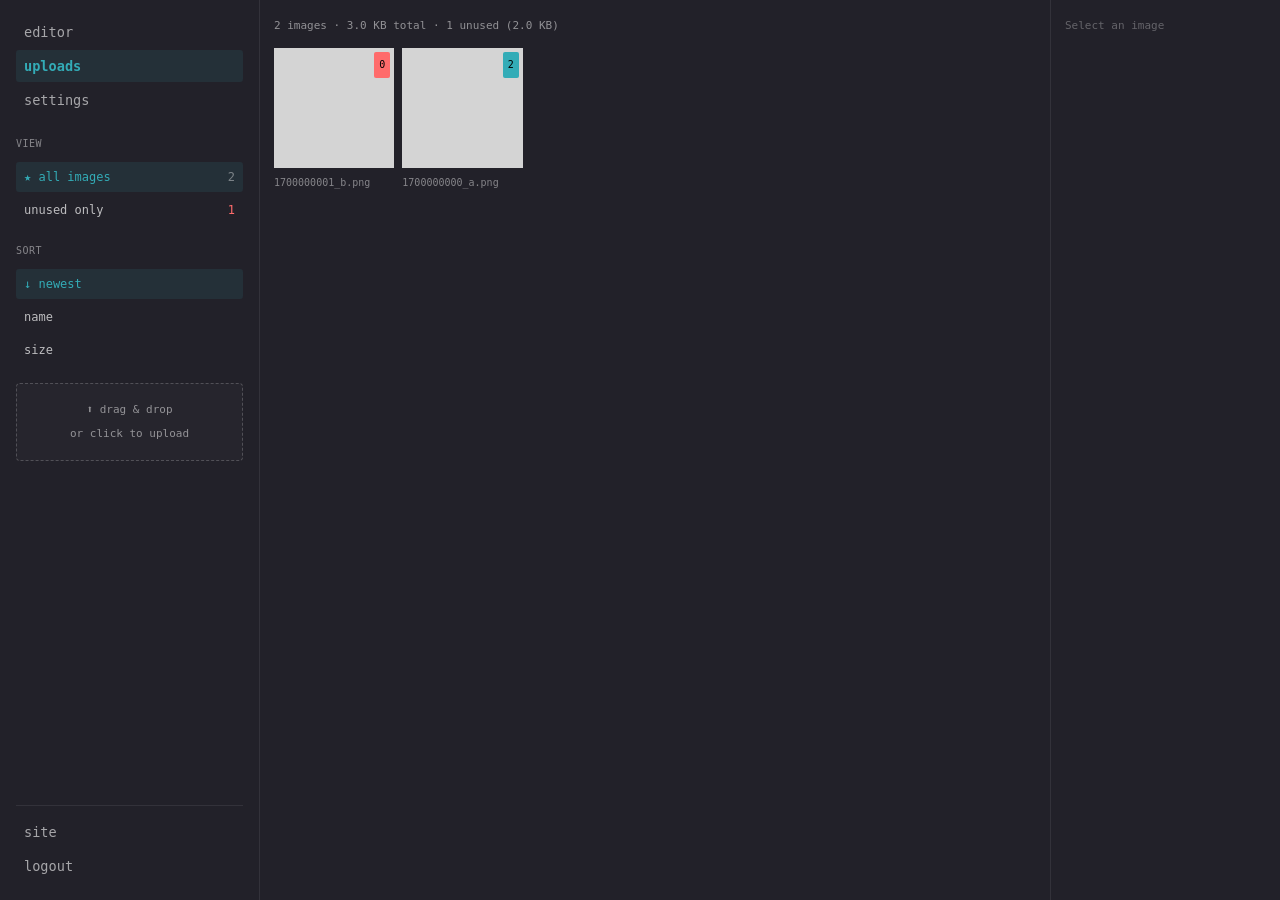
Test: UploadsPage — filters, sort, detail rail › 'unused only' hides referenced items
Check: the text "1700000000_a.png" is shown, box [402,177,499,188]
Click the element with test id "filter-unused" at point(64, 210), box [24,203,235,217]
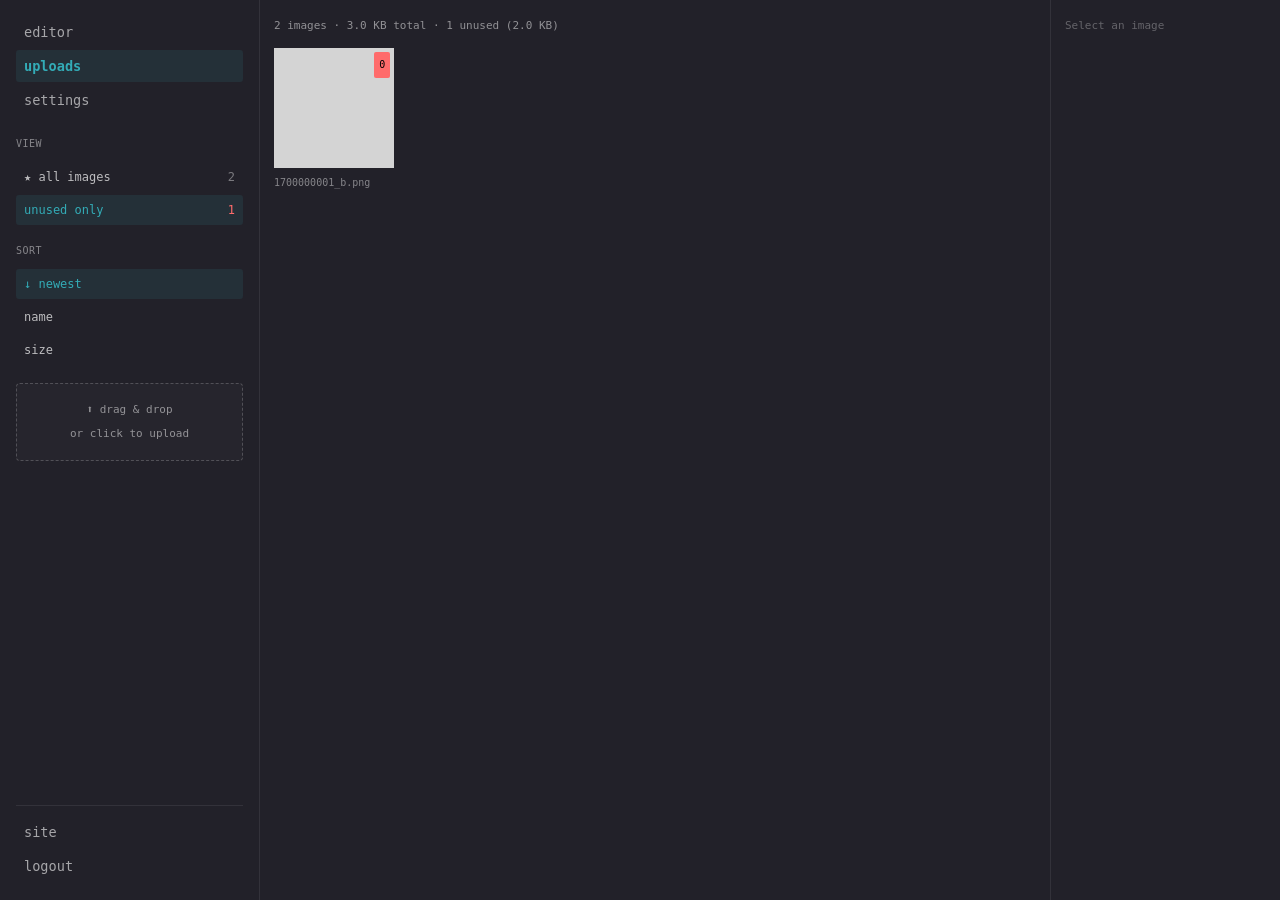
Check: the text "1700000001_b.png" is shown, box [274,177,370,188]
Check: the text "1700000000_a.png" is gone
